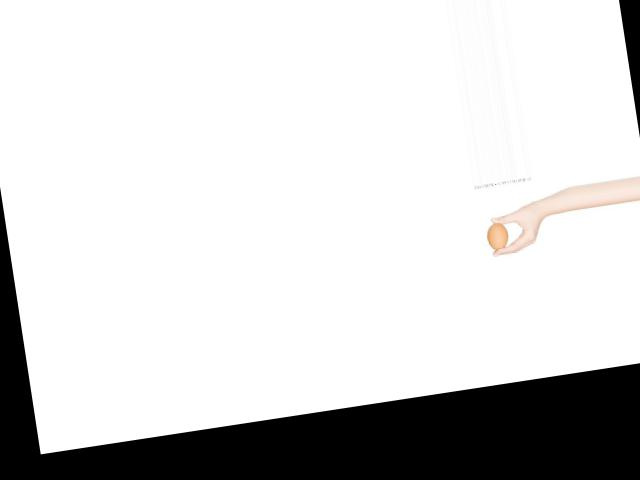egg: (484, 221, 509, 252)
